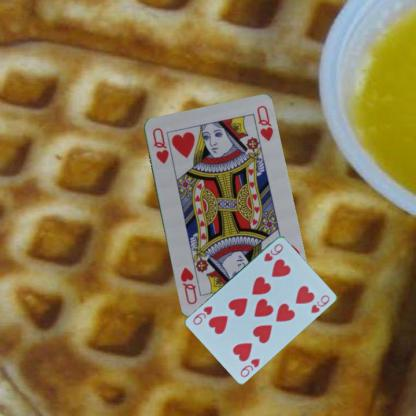9h: (238, 356, 261, 378), (261, 241, 284, 262)
Qh: (149, 125, 170, 165)
